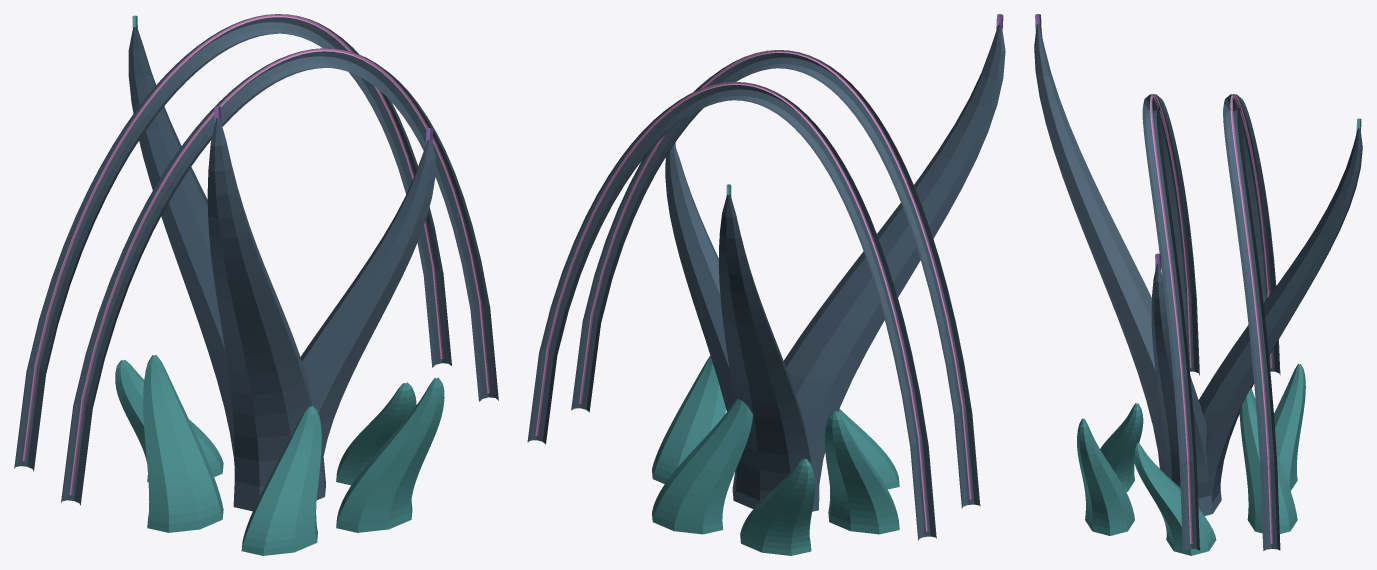
File: hexcore_elven_sanctuary_07.glb
3 renders of one model, left to right at view 1: azimuth 30°, elevation 25°; view 2: azimuth 150°, elevation 25°; view 3: azimuth 270°, elevation 25°, orthographic. The views are drawn at different scales.
Visible parts, largest first — view 1: world; view 2: world; view 3: world.
Boxes of the visible parts, bbox=[...] form: world: bbox=[14, 14, 498, 555]; world: bbox=[527, 14, 1005, 555]; world: bbox=[1034, 14, 1362, 555].
Size of the model in its own units: 32.22 by 34.71 by 24.51.
